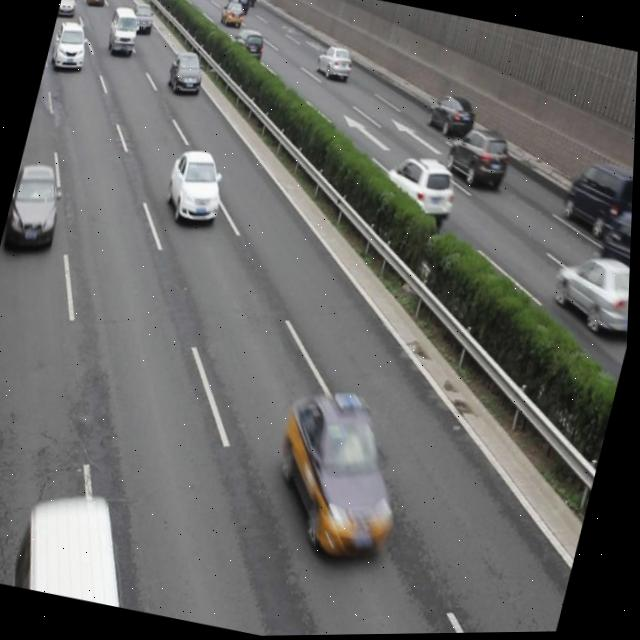car: (262, 384, 426, 569), (545, 250, 633, 342), (2, 162, 72, 254), (379, 150, 463, 225), (161, 143, 233, 230), (441, 121, 514, 194), (594, 208, 634, 286), (424, 92, 478, 143), (49, 18, 93, 74), (164, 49, 209, 99), (313, 42, 356, 85), (228, 28, 267, 66), (129, 3, 157, 34), (219, 0, 246, 29), (56, 0, 79, 19), (86, 0, 109, 7)
truck: (15, 488, 154, 610), (559, 158, 635, 244), (104, 6, 143, 58), (226, 0, 252, 14), (233, 0, 260, 6)
